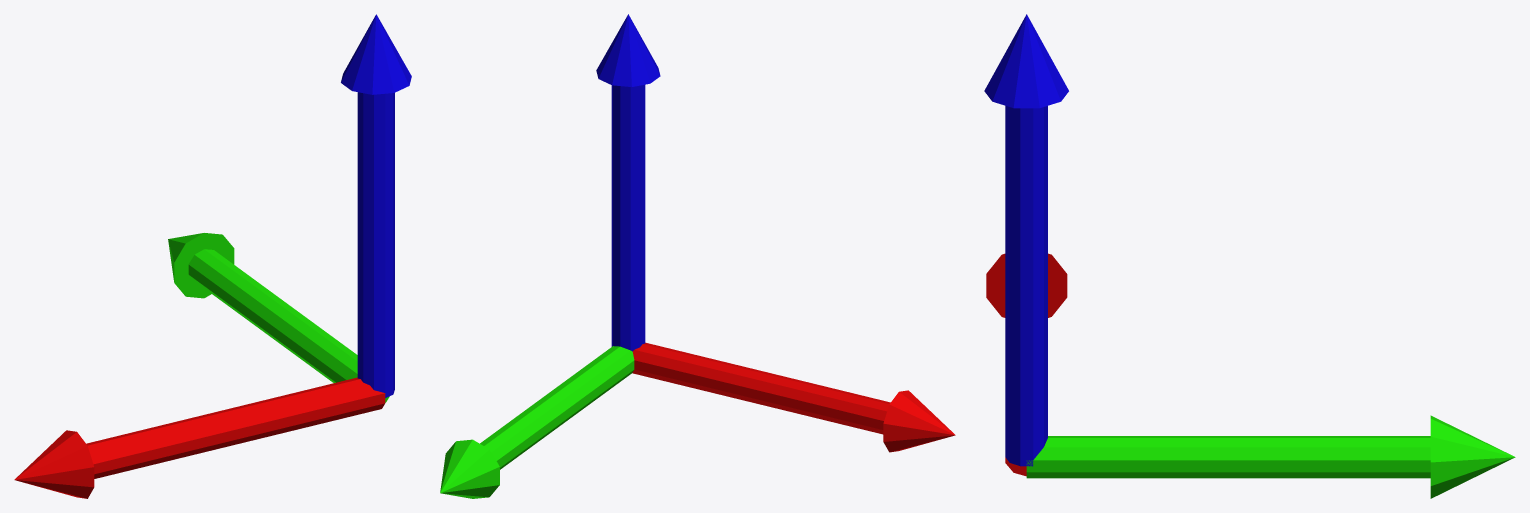
The model's file is coordArrows.fbx.
The picture shows the model from 3 angles, left to right: view 1: azimuth 30°, elevation 25°; view 2: azimuth 150°, elevation 25°; view 3: azimuth 270°, elevation 25°; orthographic projection. The views are drawn at different scales.
Visible parts, largest first — view 1: Y_pos; view 2: Y_pos; view 3: Y_pos.
Boxes of the visible parts, <box> form: Y_pos: <box>14,14,411,498</box>; Y_pos: <box>440,14,955,498</box>; Y_pos: <box>984,14,1515,498</box>.
Bounding box in the file's own units: 50 × 50 × 50.
